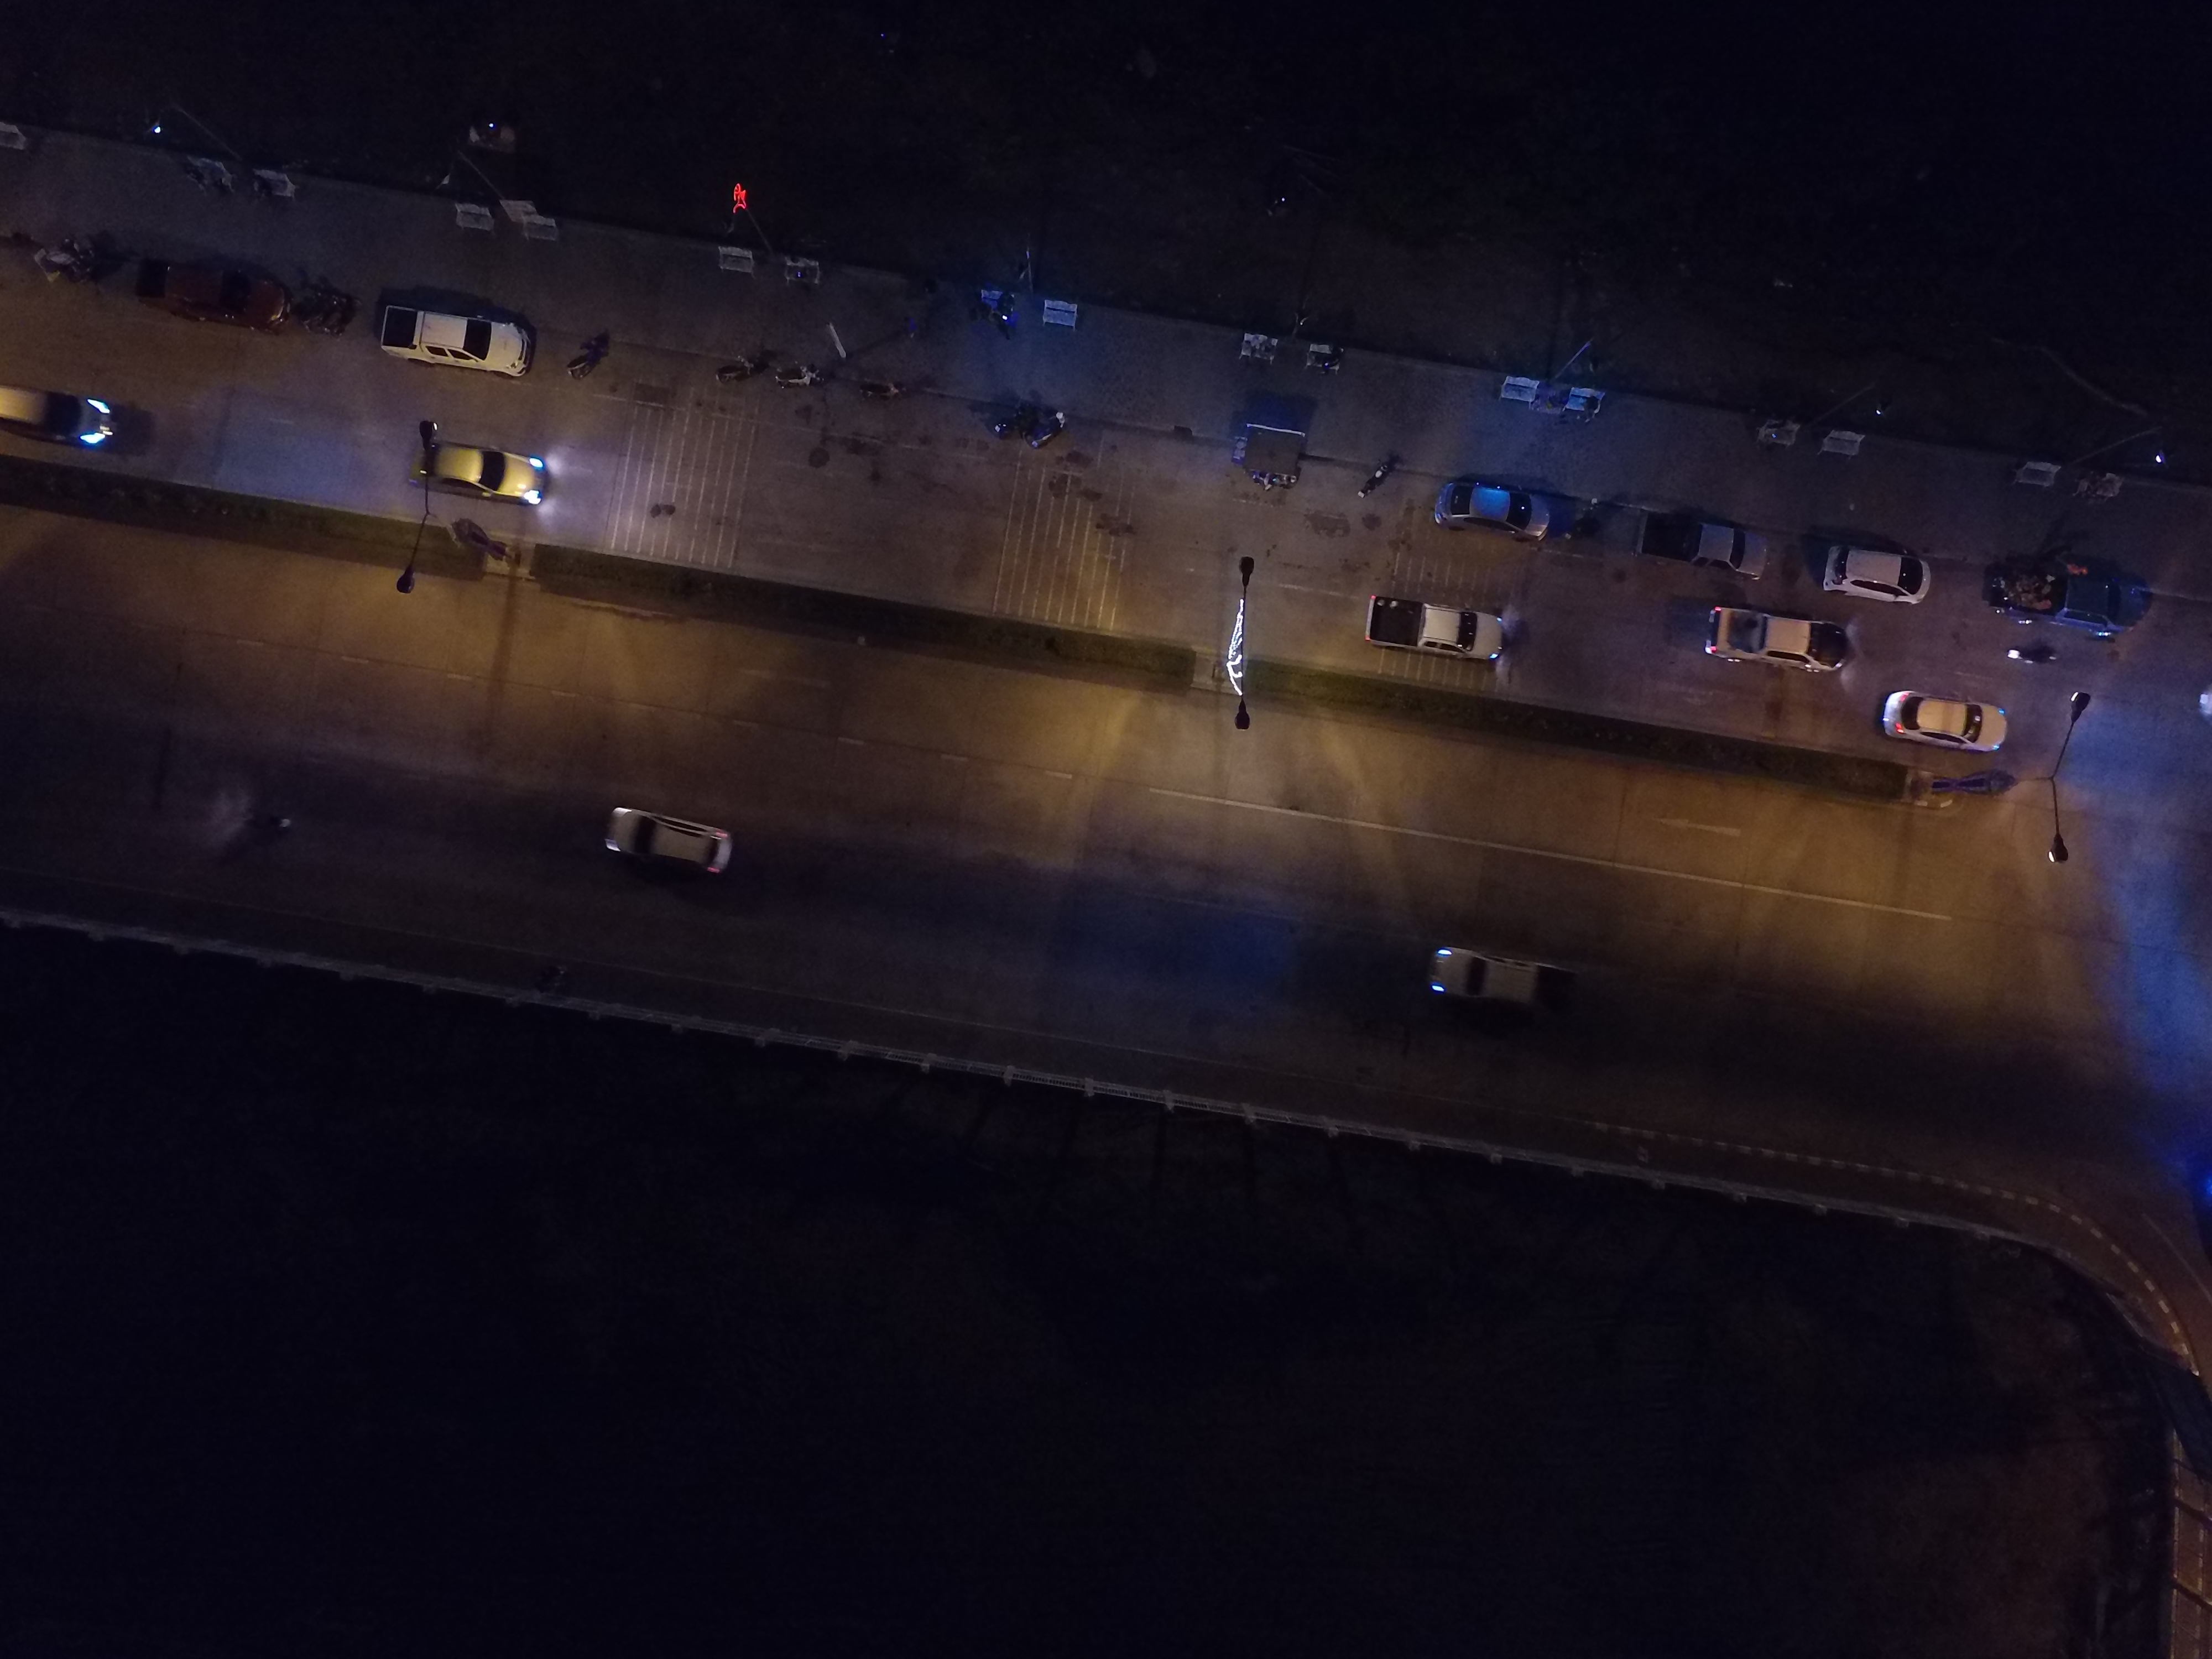car: (352, 274, 549, 392), (395, 420, 592, 538), (575, 779, 772, 897), (1376, 915, 1573, 1033), (1339, 570, 1536, 688), (1414, 472, 1571, 565), (1623, 497, 1780, 589), (1705, 598, 1862, 690), (1792, 528, 1949, 620), (1989, 561, 2146, 653), (1869, 671, 2026, 763), (143, 254, 300, 347), (0, 371, 132, 460)
